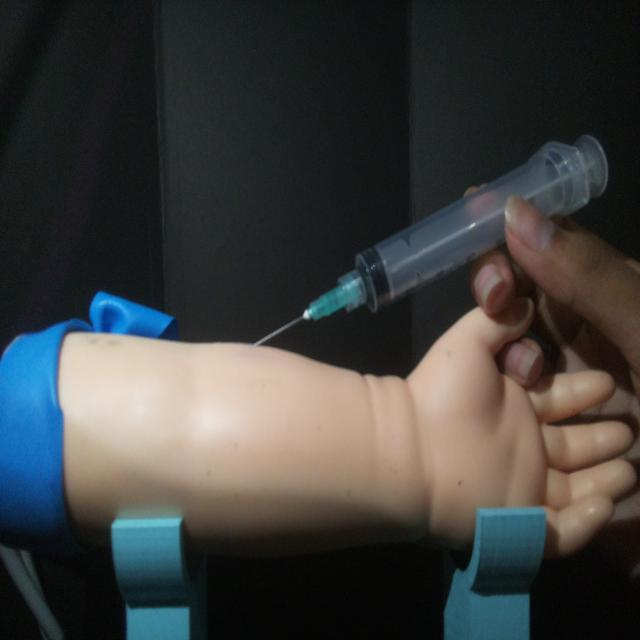25deg: (247, 128, 612, 351)
